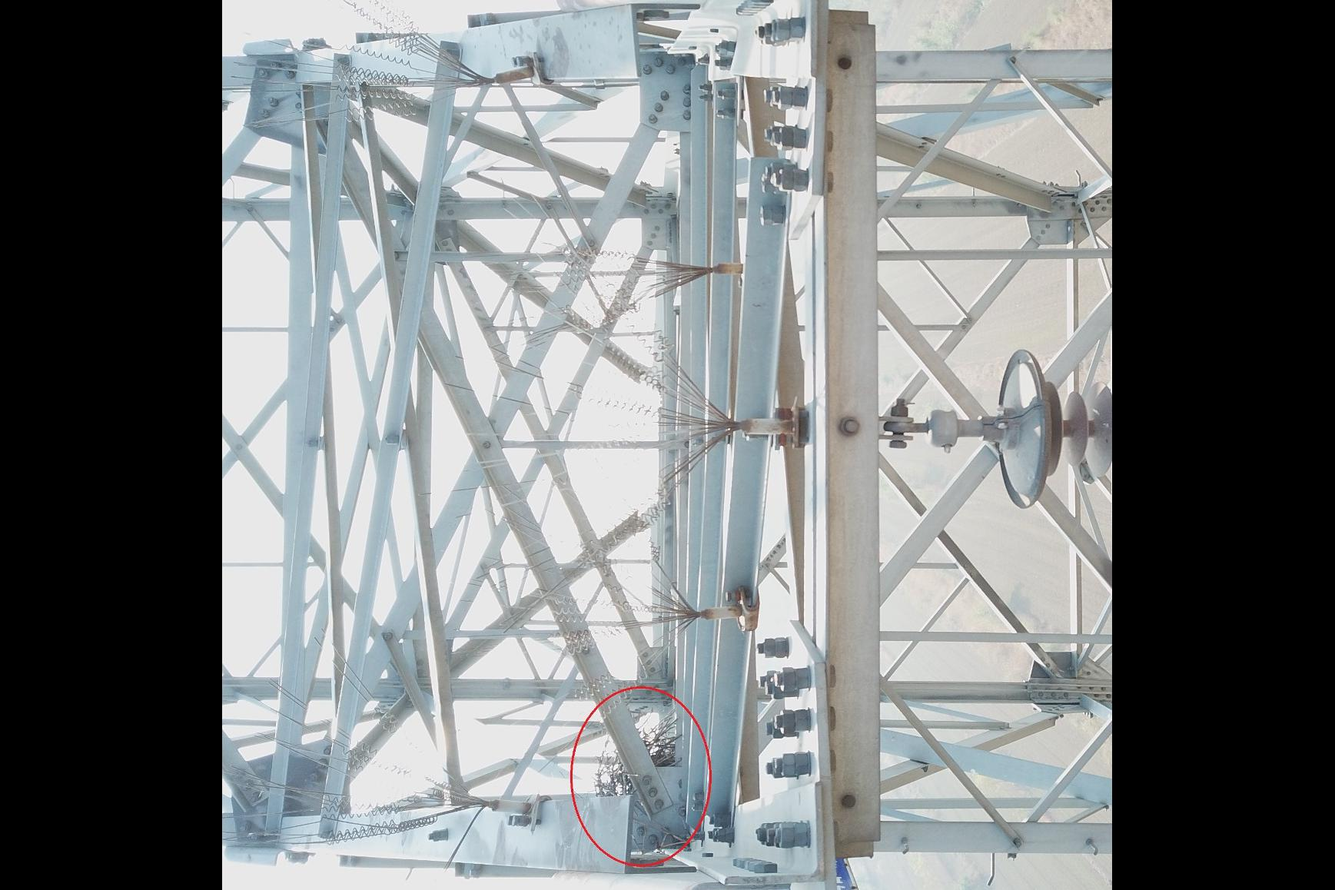nest: (584, 709, 687, 801)
